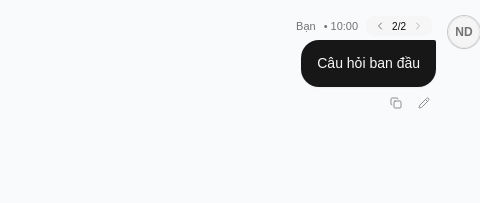
Test: Chat Feature › MessageItem Editing & Branching Navigation UI › renders edit button on user message, edits content, and navigates between branches
Later steps or results of the test are not shown.
Expected: the text "2/2" is shown, [392, 18, 406, 34]
// Click previous branch
Click the button named "Nhánh trước": click(380, 26) [372, 18, 388, 34]
// Click edit button
Click the button named "Sửa tin nhắn": click(424, 103) [412, 91, 436, 115]
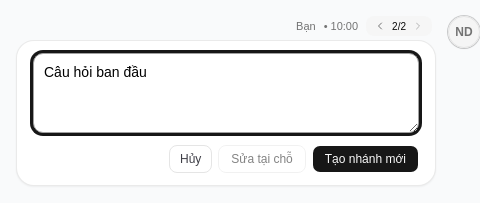
Now the text box with placeholder "Nhập nội dung chỉnh sửa..." holds "Câu hỏi ban đầu", box [33, 53, 419, 133]
